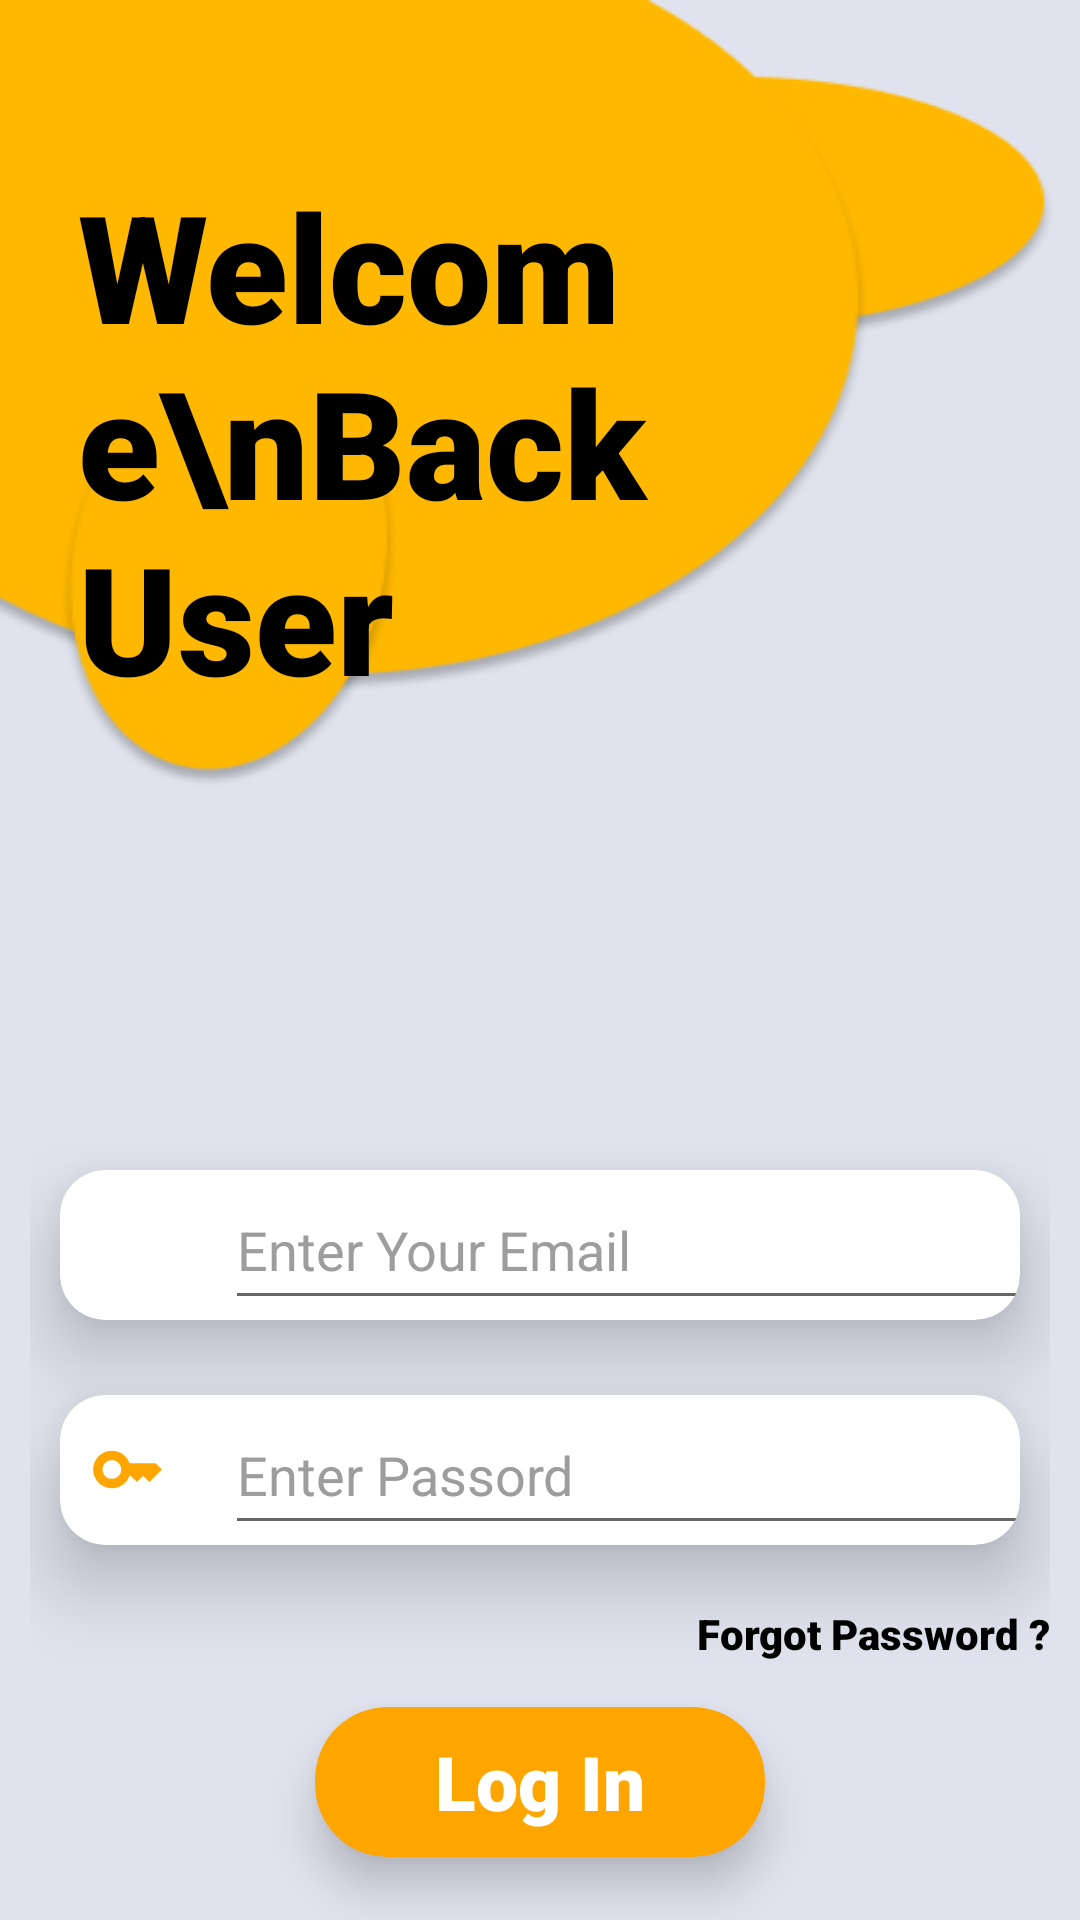

Screen size 1080x1920. Icon name, then its box in pixels as (x1, y1, x2, y2):
key: (93, 1450, 162, 1489)
